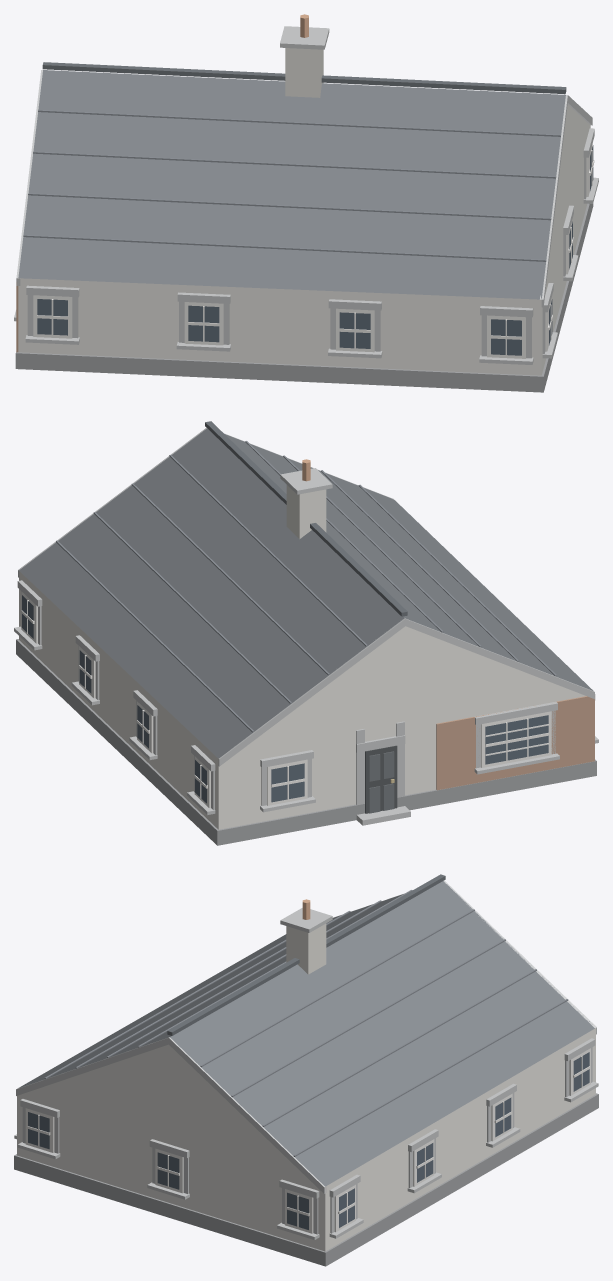
3 renders of one model, top to bottom at view 1: azimuth 30°, elevation 25°; view 2: azimuth 150°, elevation 25°; view 3: azimuth 270°, elevation 25°, orthographic. The views are drawn at different scales.
Visible parts, largest first — view 1: slate, harl, plinth, stone_band, slate_lt, frame, slate_dk, chim_render, window_glass_008, window_glass_009, window_glass_007, window_glass_010; view 2: slate, harl, stone_band, plinth, ss_red, slate_lt, frame, window_glass_002, slate_dk, chim_render, door_dark_p, window_glass_001 (+1 smaller); view 3: slate, harl, stone_band, plinth, slate_lt, frame, slate_dk, chim_render, window_glass_012, window_glass_013, window_glass_011.
Boxes of the visible parts, <box> form: slate: <box>18,70,565,299</box>; harl: <box>18,104,590,375</box>; plinth: <box>15,203,593,392</box>; stone_band: <box>14,26,598,364</box>; slate_lt: <box>23,109,560,261</box>; frame: <box>33,144,594,358</box>; slate_dk: <box>42,62,566,94</box>; chim_render: <box>285,48,323,97</box>; window_glass_008: <box>188,305,219,342</box>; window_glass_009: <box>339,312,370,348</box>; window_glass_007: <box>37,299,67,335</box>; window_glass_010: <box>491,319,521,355</box>; slate: <box>19,428,593,758</box>; harl: <box>19,530,585,829</box>; stone_band: <box>14,427,598,825</box>; plinth: <box>16,639,596,845</box>; ss_red: <box>436,696,594,790</box>; slate_lt: <box>56,441,556,732</box>; frame: <box>21,591,551,808</box>; window_glass_002: <box>485,715,548,764</box>; slate_dk: <box>205,421,407,616</box>; chim_render: <box>286,485,326,538</box>; door_dark_p: <box>369,751,394,813</box>; window_glass_001: <box>271,763,304,802</box>; slate: <box>19,881,594,1186</box>; harl: <box>17,1028,595,1251</box>; stone_band: <box>14,880,598,1239</box>; plinth: <box>14,1093,598,1266</box>; slate_lt: <box>44,890,568,1156</box>; frame: <box>25,1048,590,1233</box>; slate_dk: <box>167,874,445,1035</box>; chim_render: <box>286,923,326,974</box>; window_glass_012: <box>157,1152,179,1189</box>; window_glass_013: <box>287,1192,308,1229</box>; window_glass_011: <box>28,1112,49,1149</box>.
Size of the model in its own units: 17.8 by 7.7 by 17.19.
